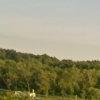Tree: (23, 44, 86, 93)
